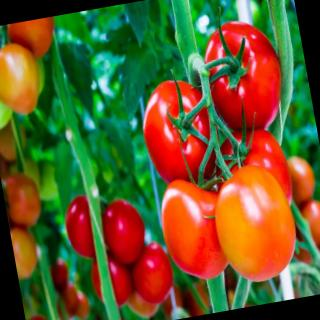Tomat: (207, 158, 305, 289), (197, 7, 292, 139), (134, 69, 225, 193), (155, 173, 235, 287), (99, 196, 152, 270), (1, 39, 46, 121), (128, 239, 179, 308)
